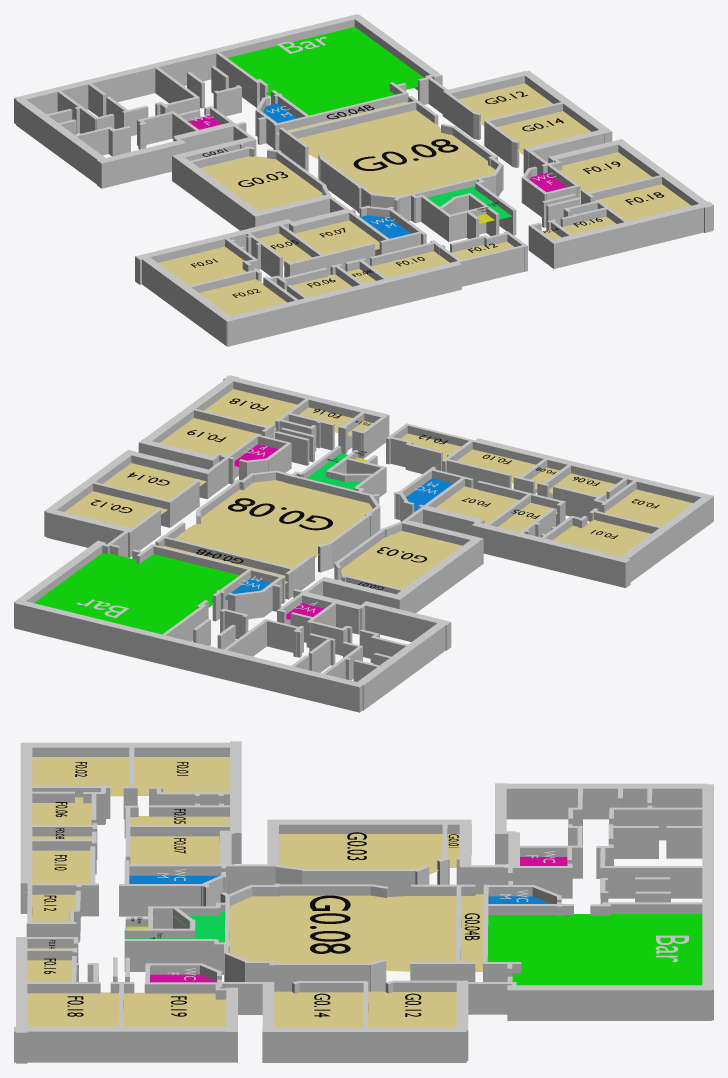
Rendered from floor_0.glb.
The picture shows the model from 3 angles, top to bottom: view 1: azimuth 30°, elevation 25°; view 2: azimuth 150°, elevation 25°; view 3: azimuth 270°, elevation 25°; orthographic projection. The views are drawn at different scales.
Parts seen in each view (by area): view 1: sala_G008, bar, Cube.001, Cube, Cube.002, sala_G003, Plane.001, Cube.014, Cube.018, Cube.017, Cube.009, sala_F019 (+51 smaller); view 2: Cube, sala_G008, Plane.001, Cube.003, bar, sala_G003, Cube.014, Cube.018, Cube.017, Cube.001, Cube.009, sala_F019 (+54 smaller); view 3: sala_G008, bar, Cube.015, Cube.016, Cube.019, Cube.018, sala_G003, sala_F019, sala_F001, sala_G014, sala_G012, sala_F018 (+70 smaller).
Boxes of the visible parts, bbox=[...] form: sala_G008: bbox=[298, 110, 495, 196]; bar: bbox=[228, 27, 423, 112]; Cube.001: bbox=[223, 261, 461, 346]; Cube: bbox=[14, 14, 360, 123]; Cube.002: bbox=[549, 201, 713, 268]; sala_G003: bbox=[200, 156, 322, 210]; Plane.001: bbox=[234, 37, 394, 115]; Cube.014: bbox=[142, 257, 234, 346]; Cube.018: bbox=[16, 99, 106, 184]; Cube.017: bbox=[172, 154, 262, 230]; Cube.009: bbox=[97, 139, 186, 188]; sala_F019: bbox=[559, 152, 651, 195]; Cube: bbox=[14, 599, 363, 712]; sala_G008: bbox=[175, 480, 372, 567]; Plane.001: bbox=[72, 554, 239, 634]; Cube.003: bbox=[471, 522, 630, 587]; bar: bbox=[34, 553, 195, 634]; sala_G003: bbox=[340, 531, 462, 588]; Cube.014: bbox=[620, 494, 713, 581]; Cube.018: bbox=[357, 623, 445, 710]; Cube.017: bbox=[391, 538, 483, 612]; Cube.001: bbox=[474, 438, 713, 520]; Cube.009: bbox=[361, 601, 451, 650]; sala_F019: bbox=[160, 418, 261, 455]; sala_G008: bbox=[229, 895, 456, 971]; bar: bbox=[512, 914, 702, 985]; Cube.015: bbox=[14, 1026, 230, 1062]; Cube.016: bbox=[262, 1027, 466, 1062]; Cube.019: bbox=[507, 985, 711, 1020]; Cube.018: bbox=[502, 783, 706, 819]; sala_G003: bbox=[279, 834, 442, 874]; sala_F019: bbox=[123, 992, 226, 1026]; sala_F001: bbox=[134, 757, 229, 795]; sala_G014: bbox=[274, 991, 363, 1027]; sala_G012: bbox=[368, 991, 456, 1027]; sala_F018: bbox=[27, 992, 118, 1026].
Bounding box in the file's own units: 525 × 29.44 × 534.
